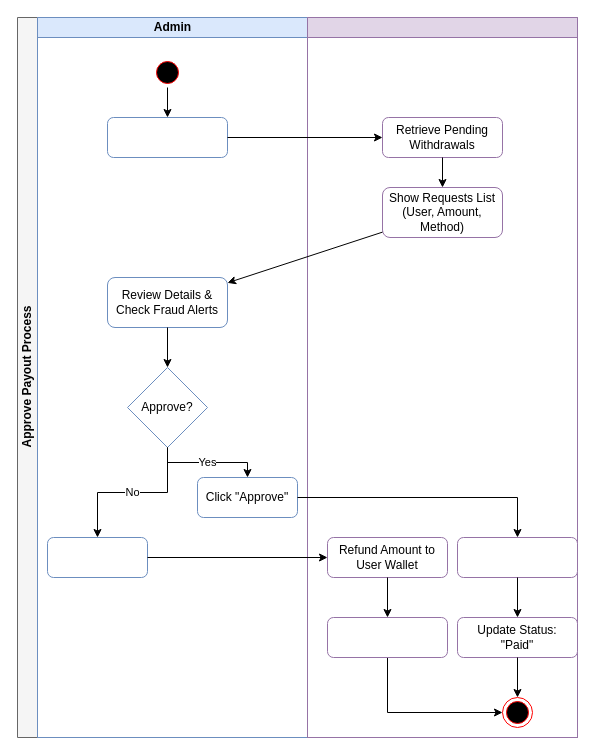
This 595x755 diagram has some shape labels left out. Each missing label, with the box of its shape:
Click "Reject": (46, 536, 148, 578)
Execute Transfer (Paymob/InstaPay): (456, 536, 578, 578)
Notify User: "Payout Rejected": (326, 616, 448, 658)
Open "Financial Requests" Tab: (106, 116, 228, 158)
System: (306, 16, 578, 738)
